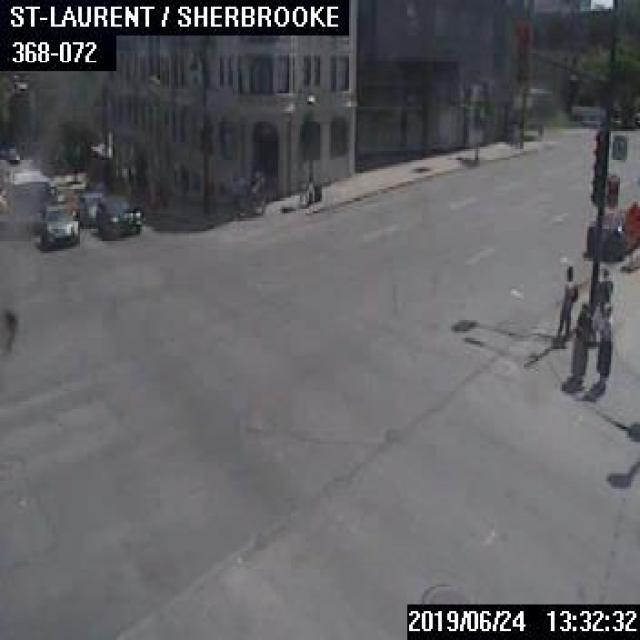construction: (619, 200, 638, 270)
pedestrian: (566, 302, 593, 385), (590, 301, 612, 390), (553, 262, 577, 342), (588, 265, 613, 341)
vehicle: (585, 206, 638, 258), (33, 203, 79, 251), (94, 194, 142, 235), (72, 190, 105, 224)
